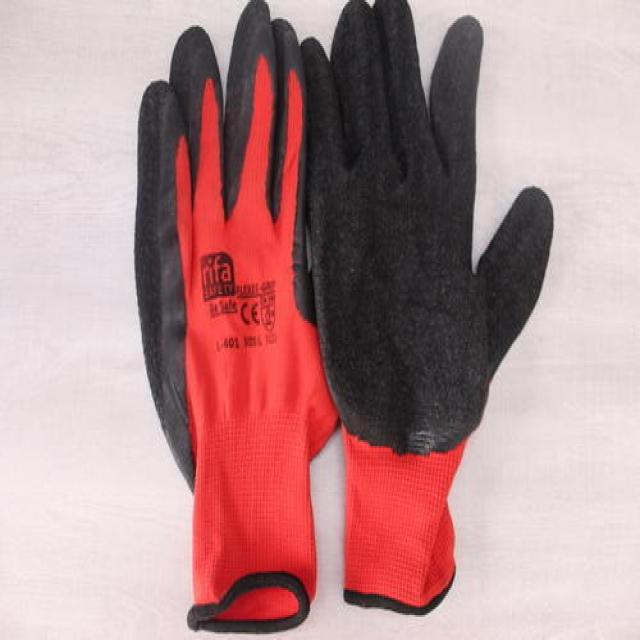gloves: (302, 0, 557, 619), (133, 0, 341, 634)
